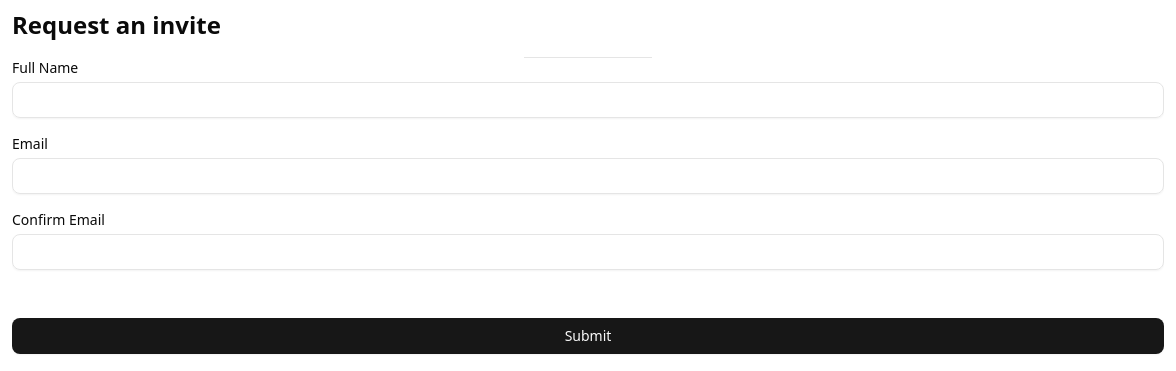
Test case: EnterDetailsForm › validates form fields on client side
# Submit empty form - should trigger validation errors
Step 1. Click the button "Submit" → point(588, 336), box [12, 318, 1164, 354]
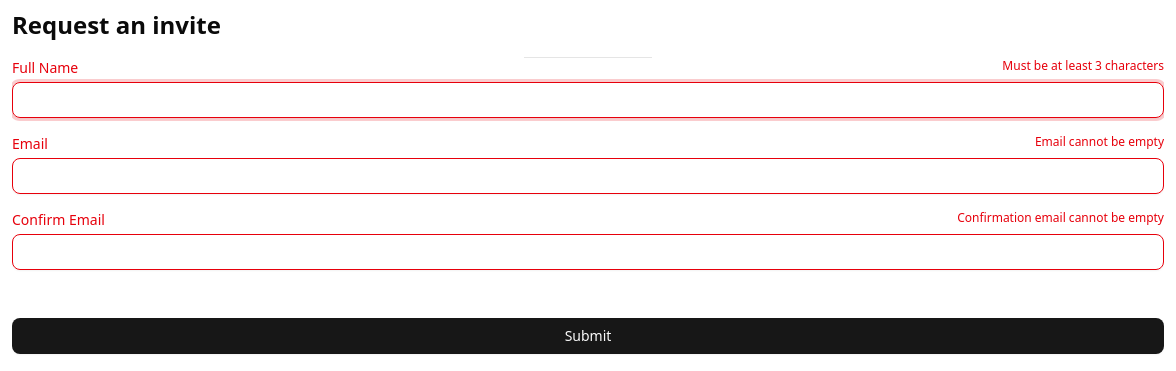
Expected: the text "Must be at least 3 characters" is shown, [1002, 58, 1164, 78]
Expected: the text "Email cannot be empty" is shown, [1035, 134, 1164, 154]
Expected: the text "Confirmation email cannot be empty" is shown, [957, 210, 1164, 230]
# Fill form with invalid data
Step 2. Type "Jo" into the field labelled "Full Name" → point(588, 100), box [12, 82, 1164, 118]
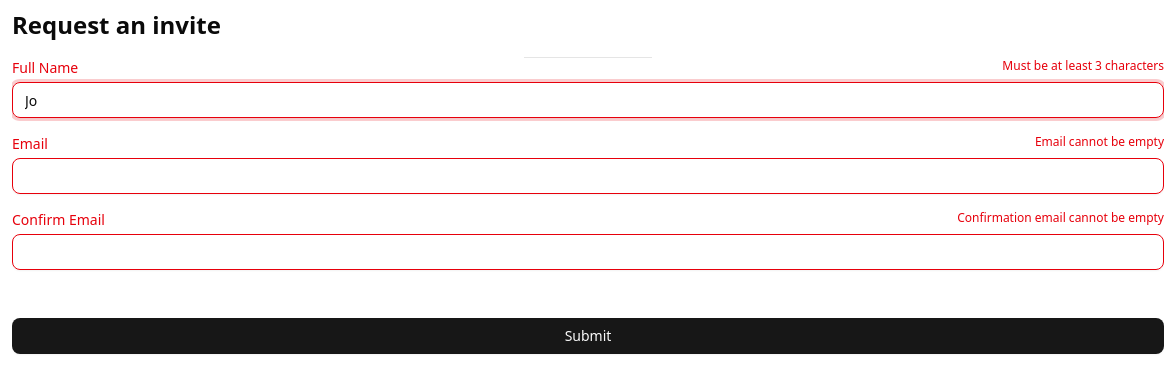
Step 3. Type "not-an-email" into the field labelled "Email" → point(588, 176), box [12, 158, 1164, 194]
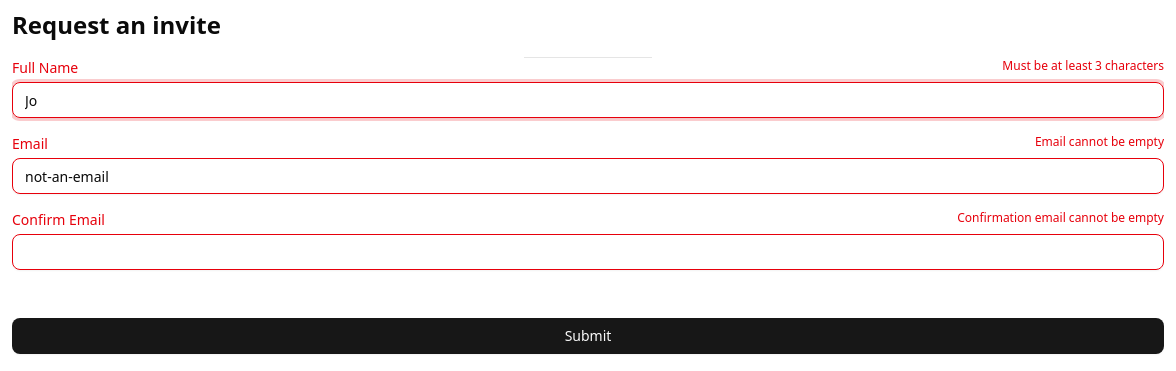
Step 4. Type "different-email@example.com" into the field labelled "Confirm Email" → point(588, 252), box [12, 234, 1164, 270]
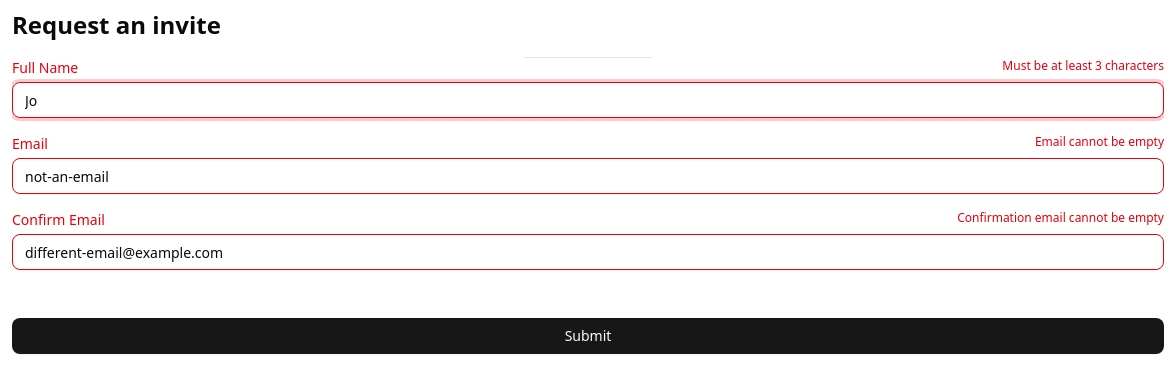
Step 5. Click the button "Submit" → point(588, 336), box [12, 318, 1164, 354]
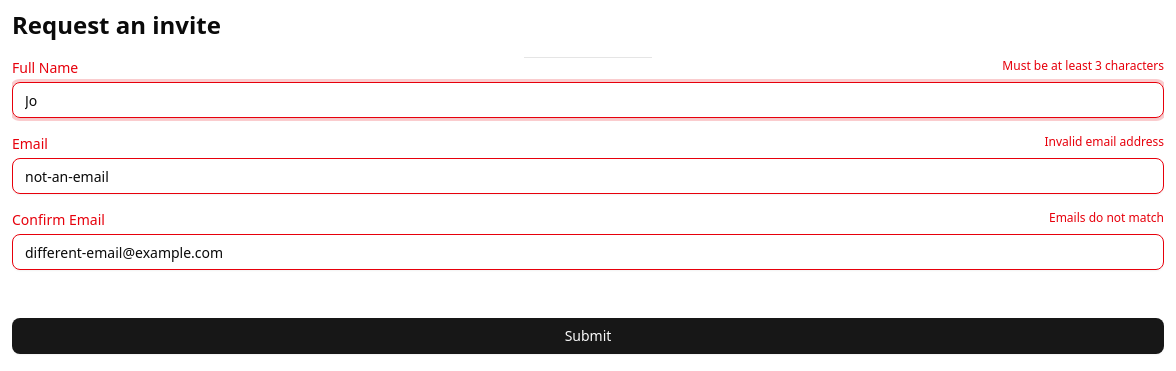
Expected: the text "Must be at least 3 characters" is shown, [1002, 58, 1164, 78]
Expected: the text "Invalid email address" is shown, [1044, 134, 1164, 154]
Expected: the text "Emails do not match" is shown, [1049, 210, 1164, 230]
